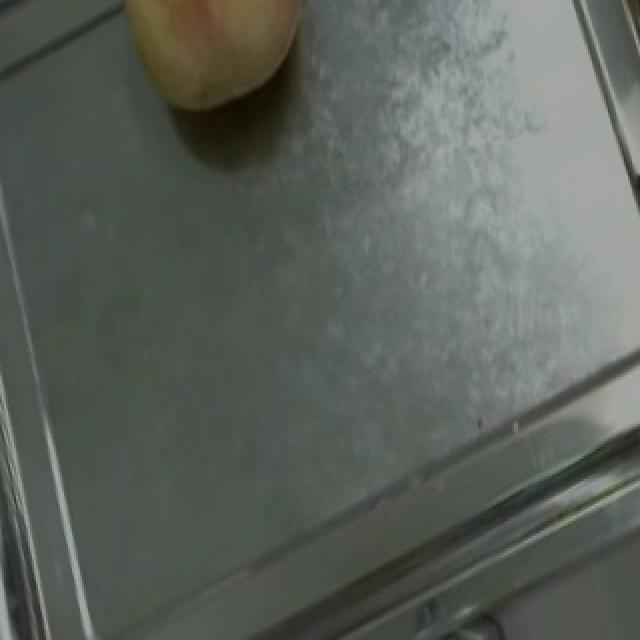Fruit: (86, 0, 336, 144)
